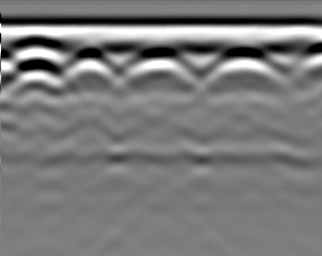pipe: (13, 33, 64, 69)
steel: (213, 50, 276, 81), (129, 48, 187, 81), (68, 48, 115, 82)
